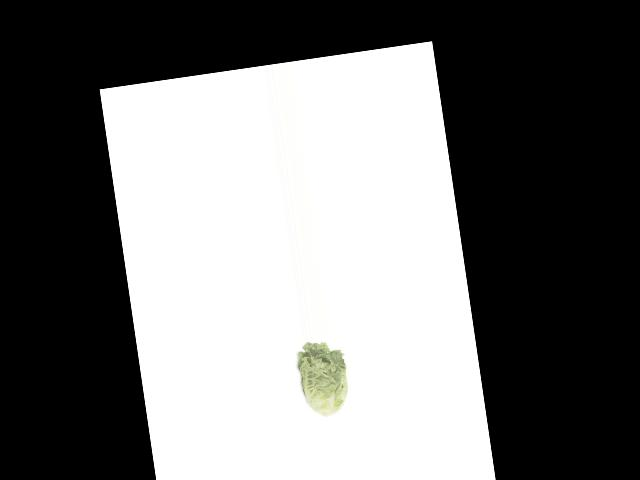lettuce: (291, 338, 357, 420)
